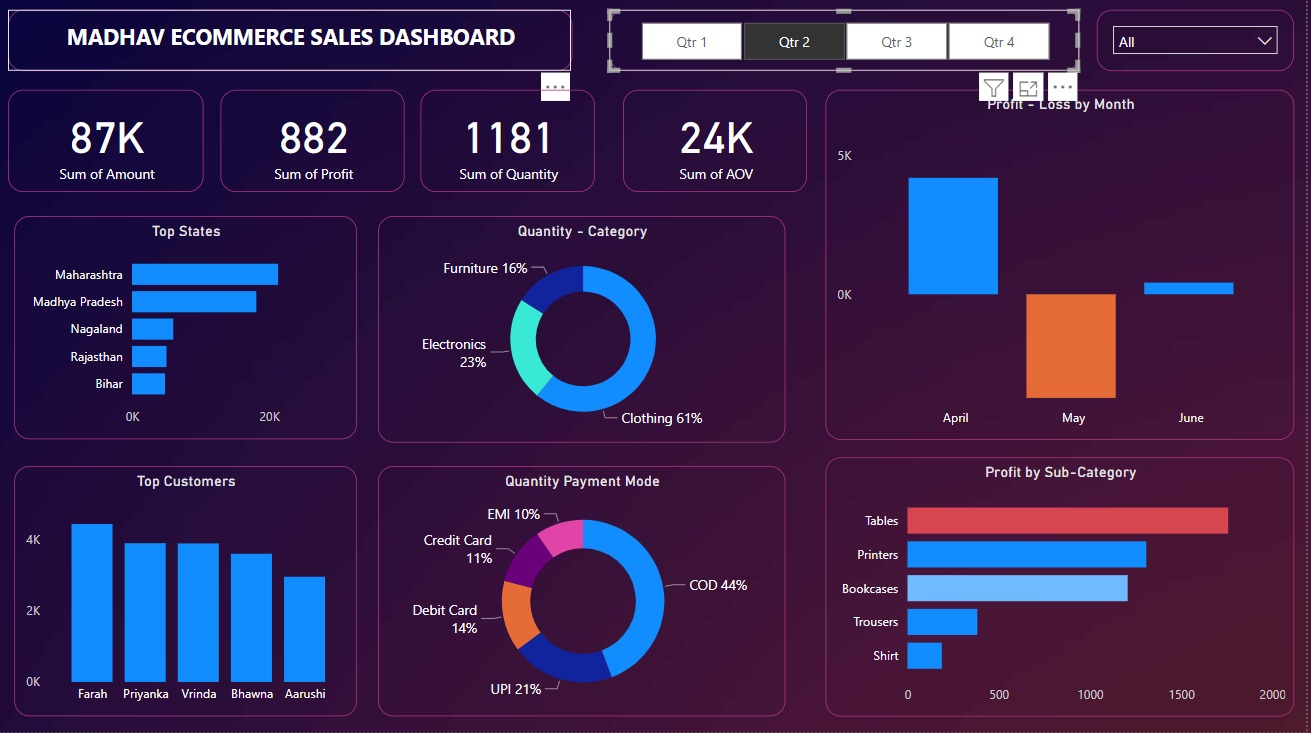

The dashboard page shown, as its layout file describes it:
{"tool":"powerbi","page":{"name":"Page 1","canvas":[1280,720],"ordinal":0},"visuals":[{"type":"textbox","box":[10,13.3,551.7,60],"z":0},{"type":"columnChart","title":"Profit - Loss by Month","fields":{"Y":["Details.Profit"],"Category":["Orders.Order Date.Variation.Date Hierarchy.Month"]},"box":[808.8,91.2,458.8,342.5],"z":1000},{"type":"barChart","title":"Profit by Sub-Category","fields":{"Category":["Details.Sub-Category"],"Y":["Details.Profit"]},"box":[808.8,451.2,458.8,253.8],"z":2000},{"type":"donutChart","title":"Quantity - Category","fields":{"Category":["Details.Category"],"Y":["Details.Quantity"]},"box":[371.2,215,398.8,221.2],"z":3000},{"type":"donutChart","title":"Quantity Payment Mode","fields":{"Y":["Details.Quantity"],"Category":["Details.PaymentMode"]},"box":[371.2,460,398.8,245],"z":4000},{"type":"card","fields":{"Values":["Details.Amount"]},"box":[10,91.2,191.2,100],"z":5000},{"type":"card","fields":{"Values":["Details.Profit"]},"box":[217.5,91.2,180,100],"z":6000},{"type":"card","fields":{"Values":["Details.Quantity"]},"box":[413.8,91.2,170,100],"z":7000},{"type":"card","fields":{"Values":["Details.AOV"]},"box":[611.2,91.2,180,100],"z":8000},{"type":"barChart","title":"Top States","fields":{"Y":["Details.Amount"],"Category":["Orders.State"]},"box":[16.2,215,335,218.8],"z":9000},{"type":"columnChart","title":"Top Customers","fields":{"Category":["Orders.CustomerName"],"Y":["Details.Amount"]},"box":[16.2,460,335,245],"z":10000},{"type":"slicer","fields":{"Values":["Orders.Order Date.Variation.Date Hierarchy.Quarter"]},"box":[596.5,14.7,459.6,59.9],"z":11000},{"type":"slicer","fields":{"Values":["Orders.State"]},"box":[1075,13.8,192.5,60],"z":12000},{"type":"qnaVisual","box":[770.1,434,185.8,149.1],"z":13000}]}

Visuals, with their boxes in screenshot pixels (x1, y1, x2, y2), scaled from the page's 1280x720 canvas onto the 1311x733 screenshot:
textbox: 10:14:575:75
"Profit - Loss by Month" columnChart: 828:93:1298:442
"Profit by Sub-Category" barChart: 828:459:1298:718
"Quantity - Category" donutChart: 380:219:789:444
"Quantity Payment Mode" donutChart: 380:468:789:718
card - Details.Amount: 10:93:206:195
card - Details.Profit: 223:93:407:195
card - Details.Quantity: 424:93:598:195
card - Details.AOV: 626:93:810:195
"Top States" barChart: 17:219:360:442
"Top Customers" columnChart: 17:468:360:718
slicer - Orders.Order Date.Variation.Date Hierarchy.Quarter: 611:15:1082:76
slicer - Orders.State: 1101:14:1298:75
qnaVisual: 789:442:979:594
